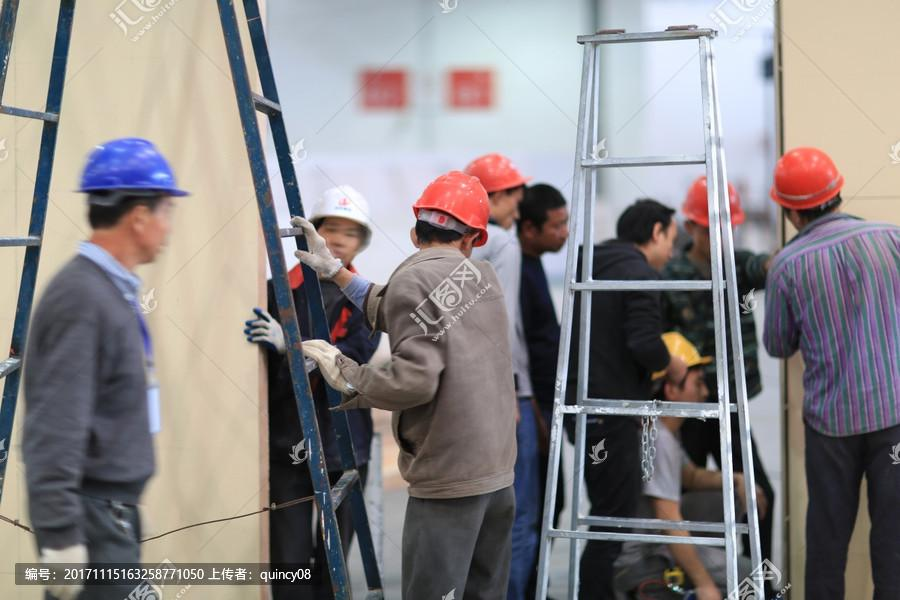helmet: (76, 139, 189, 195), (406, 172, 493, 240), (771, 147, 846, 213), (311, 184, 377, 239), (684, 176, 750, 226), (467, 153, 533, 196)
